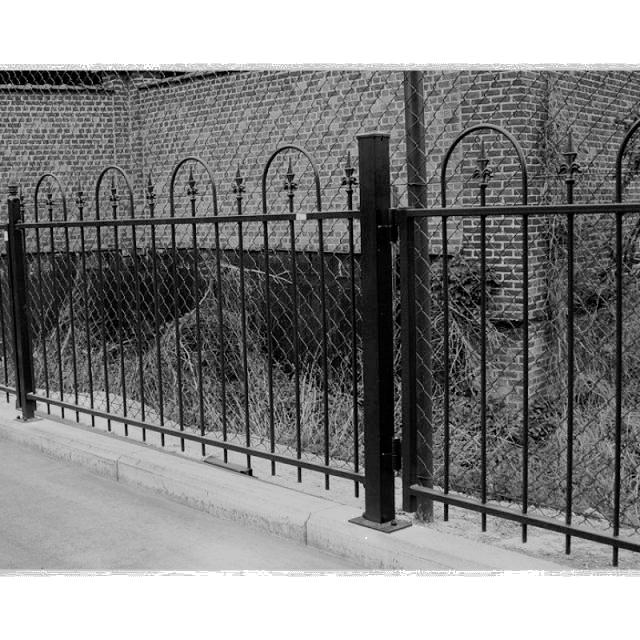fences: (11, 167, 640, 540)
